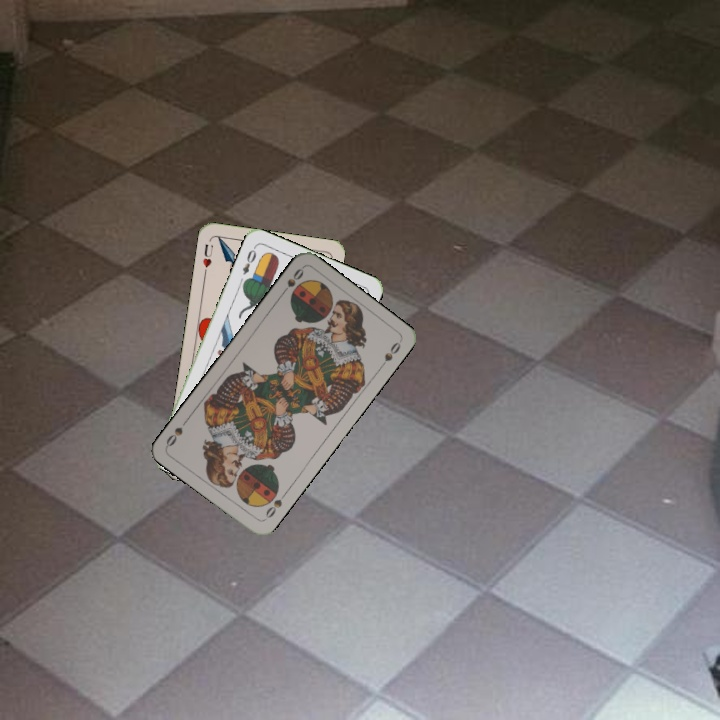EO: (238, 242, 259, 277)
HU: (199, 240, 216, 277)
SO: (260, 486, 289, 523), (277, 264, 306, 299)
